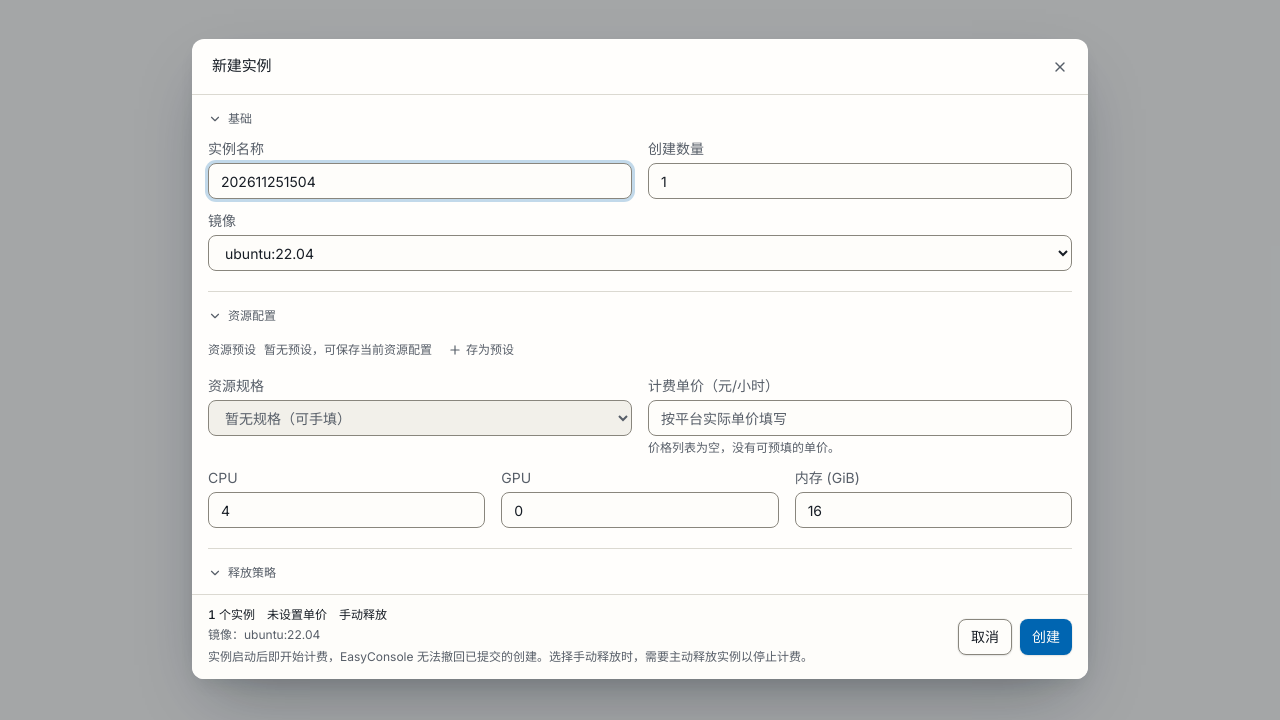
Scenario: CreateTaskDialog › shows form error when submitting with empty name
This screenshot has width=1280, height=720.
Expected: the heading "新建实例" is shown, [212,55,271,78]
Clear the field at (420, 181), box [208,163,632,199]
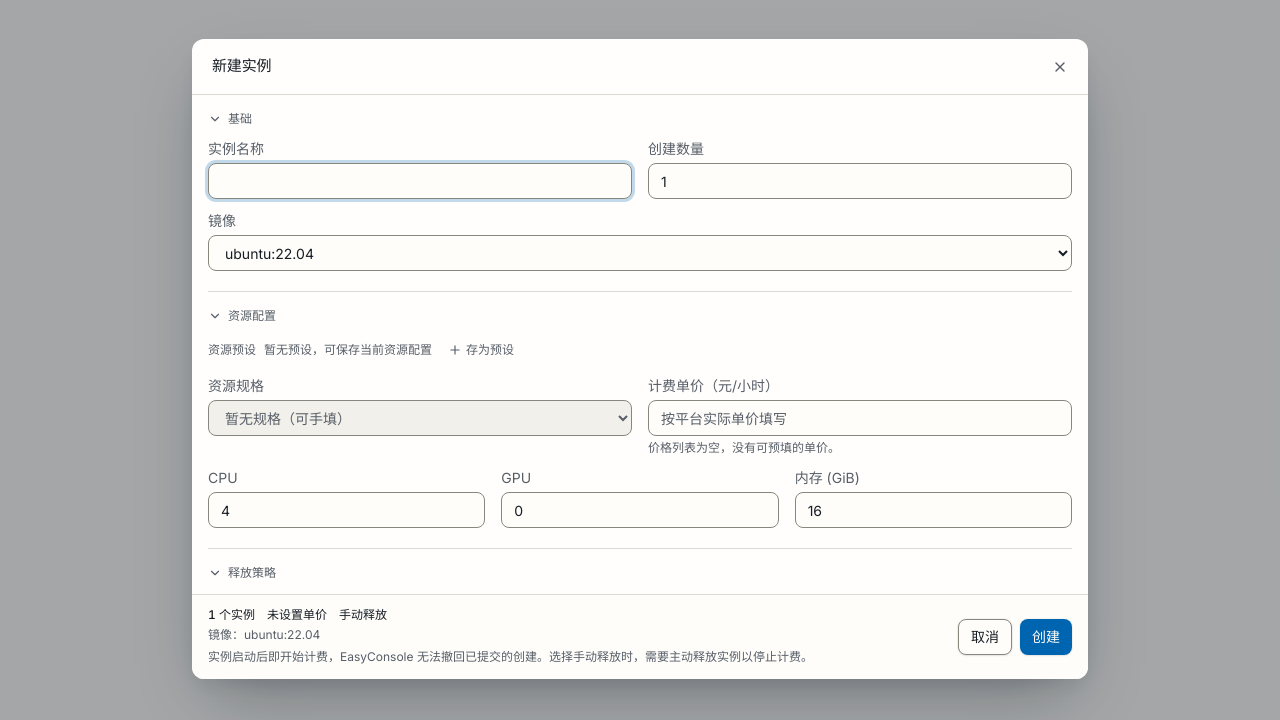
Submit the form, box [192,95,1088,679]
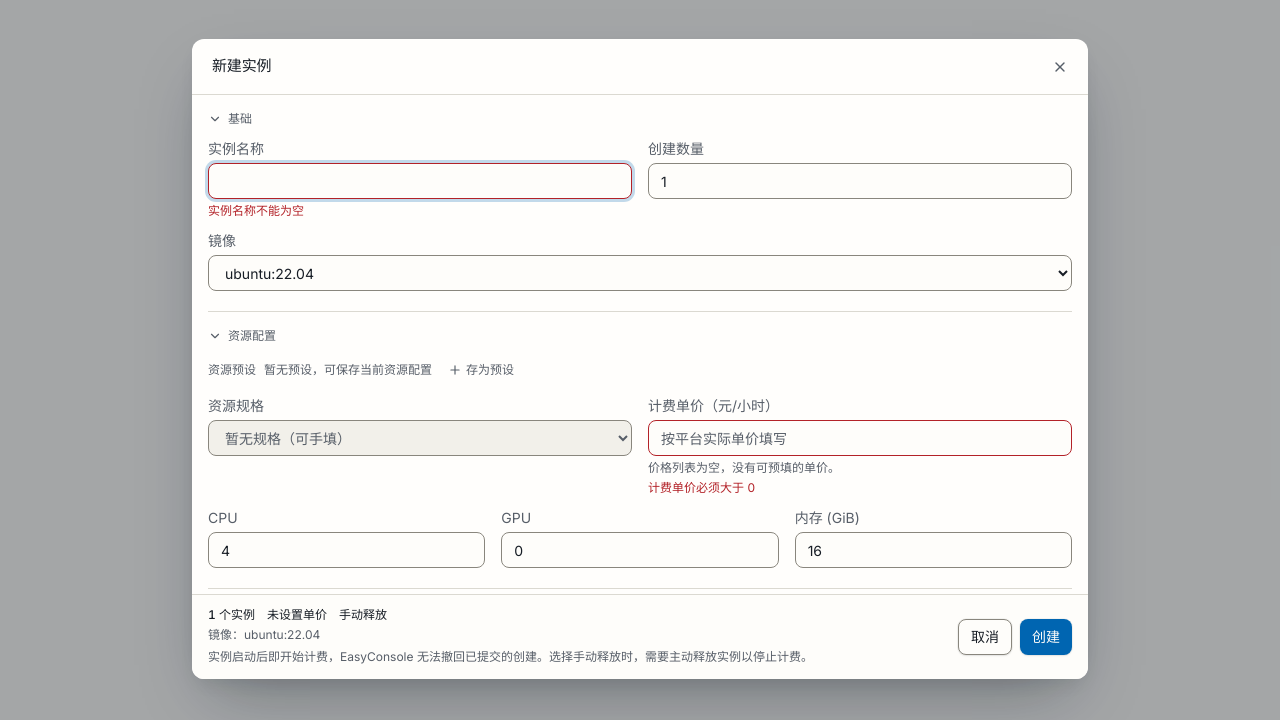
Expected: the text "实例名称不能为空" is shown, [208,203,304,218]
